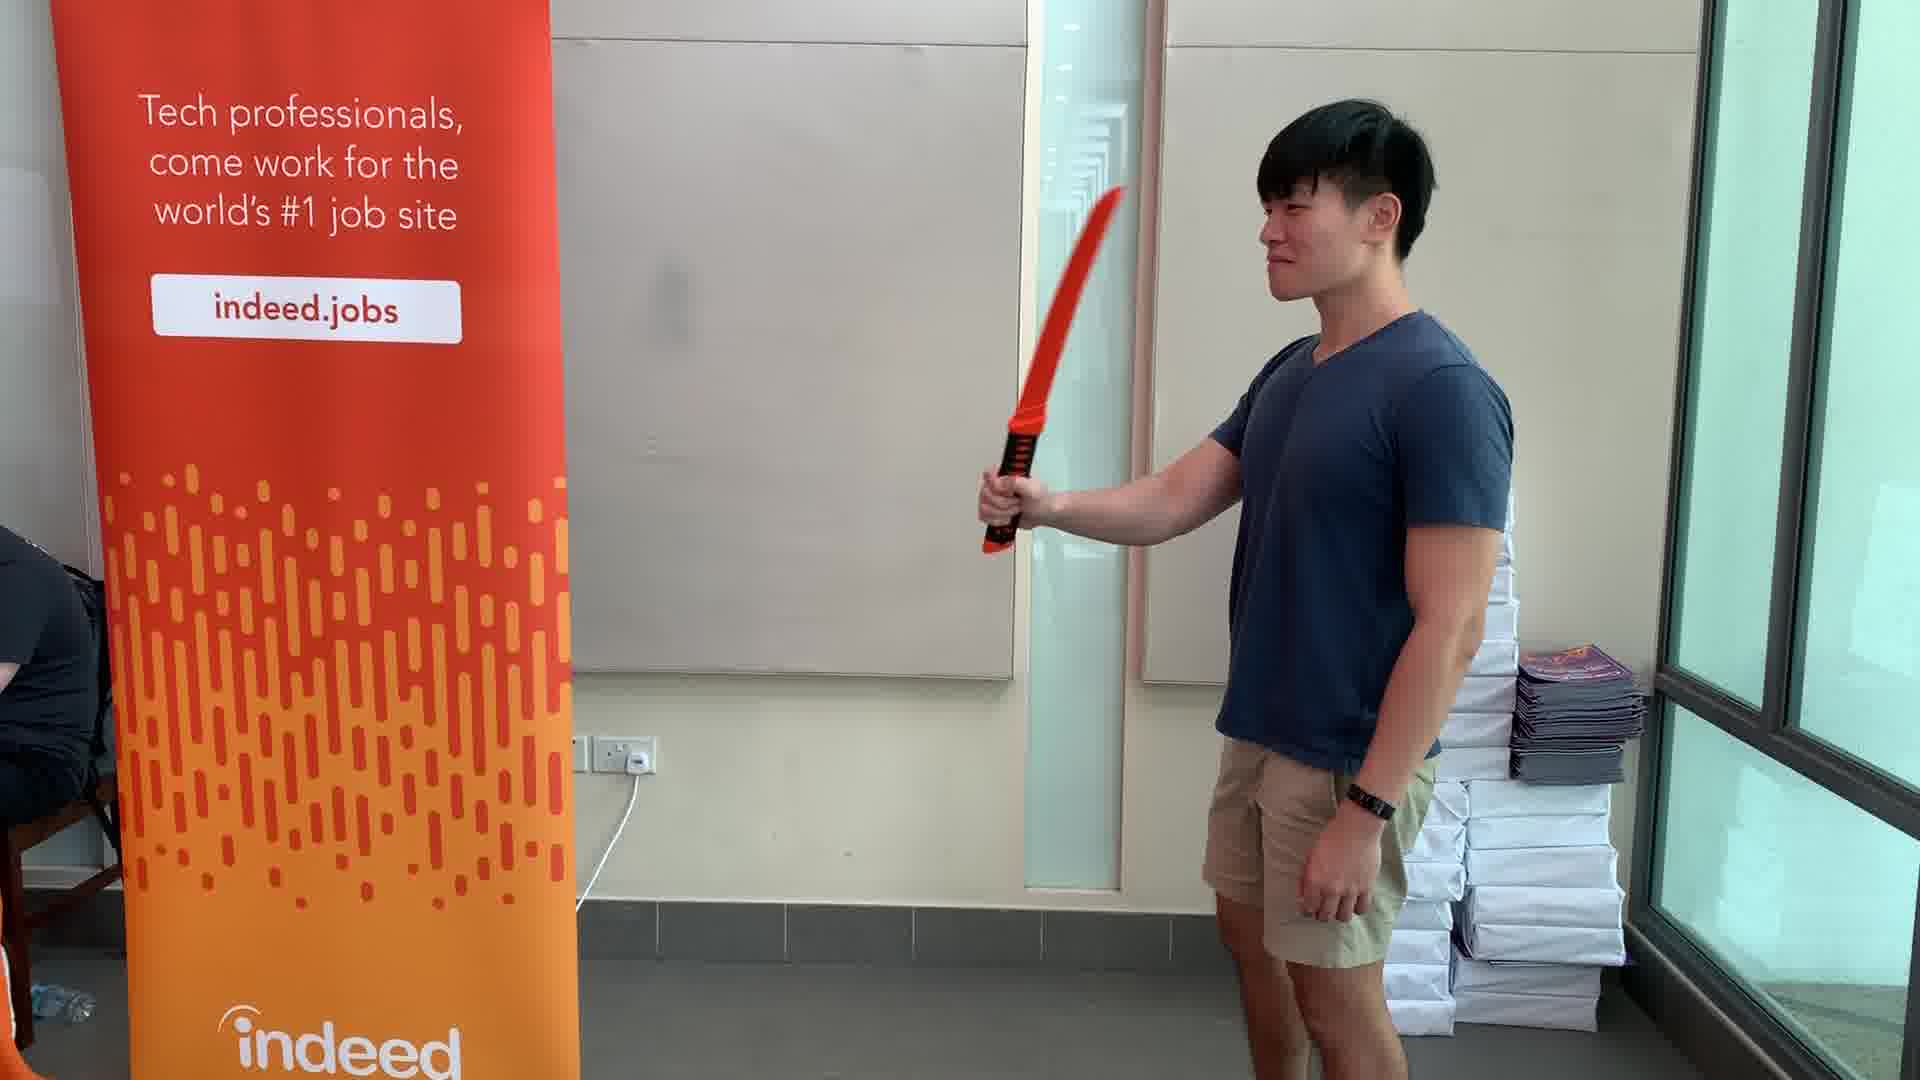knife: (975, 175, 1142, 560)
